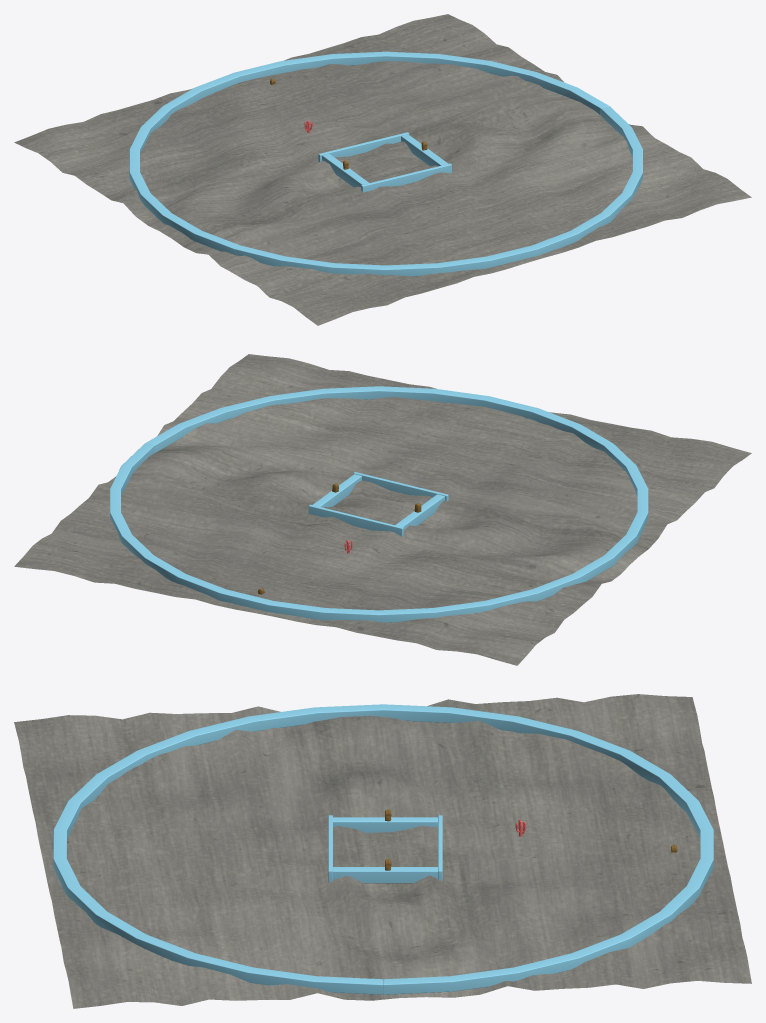
File: Desert.FBX
3 renders of one model, top to bottom at view 1: azimuth 30°, elevation 25°; view 2: azimuth 150°, elevation 25°; view 3: azimuth 270°, elevation 25°, orthographic. The views are drawn at different scales.
Parts seen in each view (by area): view 1: Desert; view 2: Desert; view 3: Desert.
Boxes of the visible parts, x1,y1,x2,y2 form: Desert: (14,14,751,325); Desert: (14,354,751,665); Desert: (14,694,751,1008).
Size of the model in its own units: 1625 by 1625 by 64.66.
